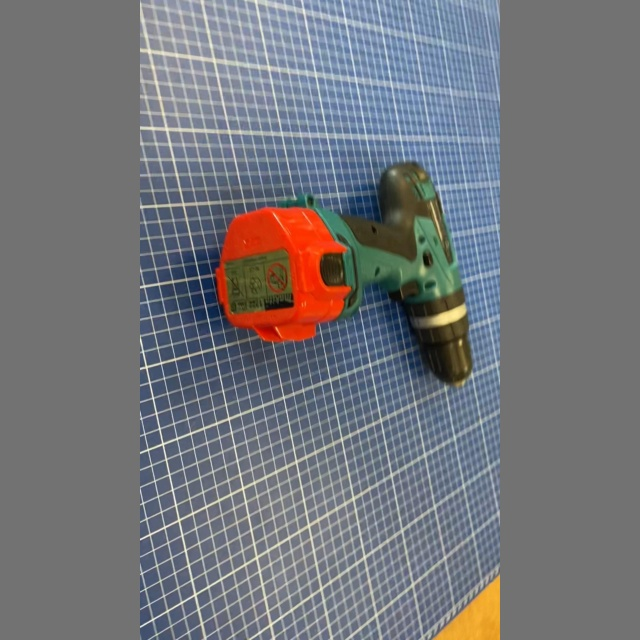drill: (209, 153, 481, 393)
